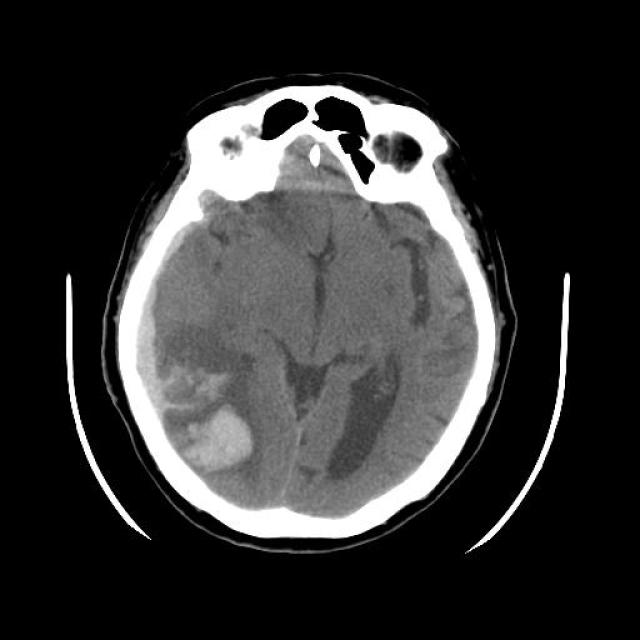Intraparenchymal: (176, 402, 282, 488), (164, 354, 250, 415)
Subdural: (85, 187, 201, 462)
